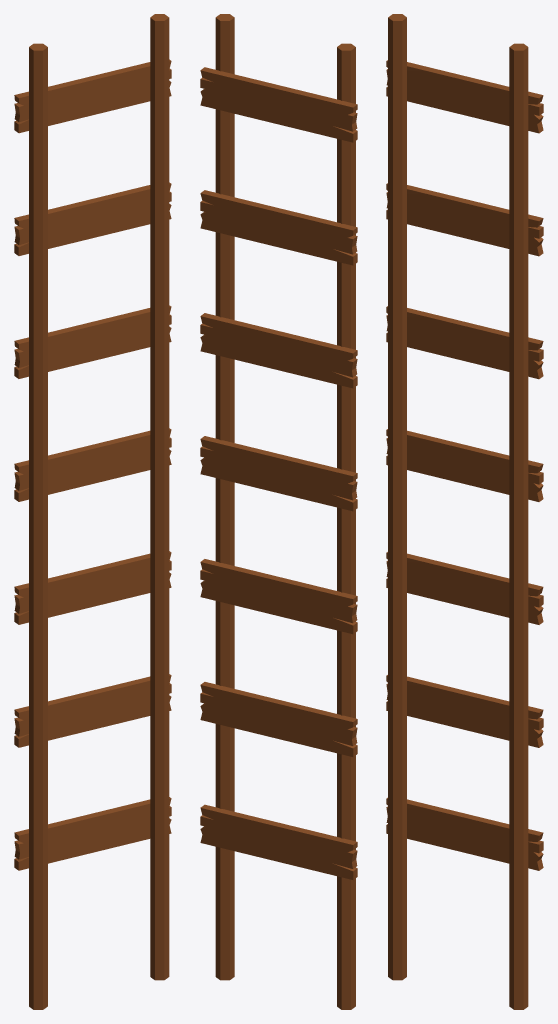
The model's file is ladder.fbx.
3 renders of one model, left to right at view 1: azimuth 30°, elevation 25°; view 2: azimuth 150°, elevation 25°; view 3: azimuth 330°, elevation 25°, orthographic.
Parts seen in each view (by area): view 1: Cube.091; view 2: Cube.091; view 3: Cube.091.
Boxes of the visible parts, bbox=[...] form: Cube.091: bbox=[14, 14, 171, 1009]; Cube.091: bbox=[200, 14, 357, 1009]; Cube.091: bbox=[386, 14, 543, 1009].
Bounding box in the file's own units: 100 × 600 × 15.12.
